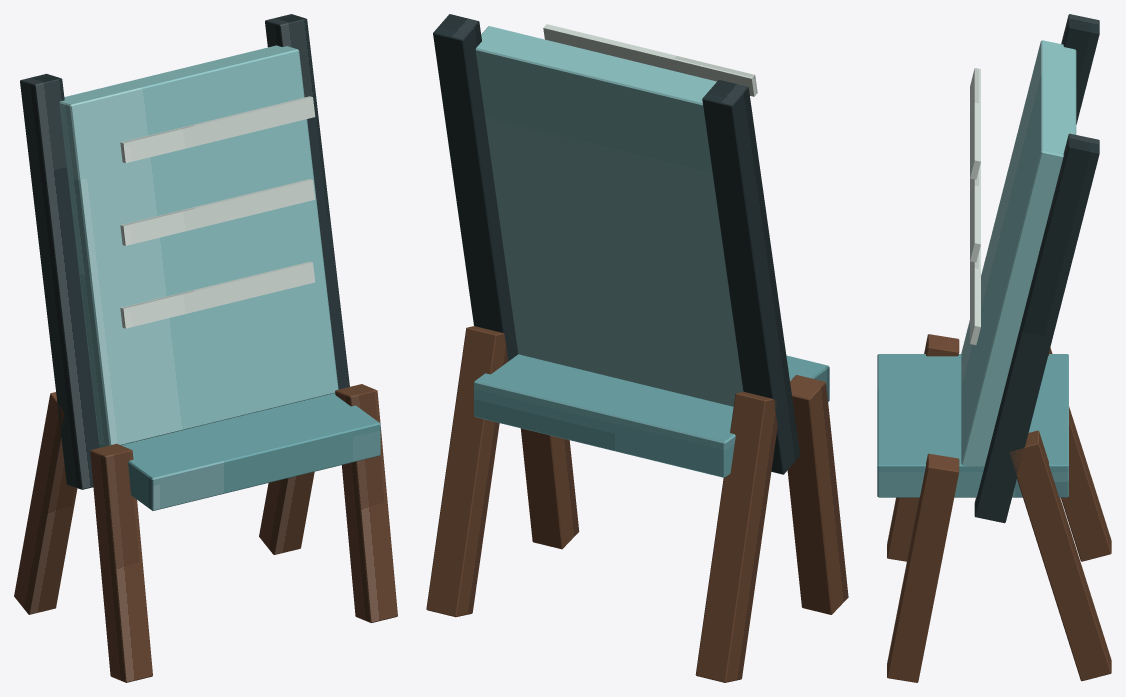
Rendered from beach_chair.glb.
The picture shows the model from 3 angles, left to right: view 1: azimuth 30°, elevation 25°; view 2: azimuth 150°, elevation 25°; view 3: azimuth 270°, elevation 25°; orthographic projection. The views are drawn at different scales.
Parts seen in each view (by area): view 1: ChairBackCanvas, ChairSeatCanvas, BackPostL, FrontLegL, FrontLegR, BackLegL, BackPostR, CanvasFrost_4, CanvasFrost_3, CanvasFrost_2, BackLegR; view 2: ChairBackCanvas, ChairSeatCanvas, BackPostL, BackPostR, BackLegL, BackLegR, FrontLegL, FrontLegR, CanvasFrost_4; view 3: ChairBackCanvas, ChairSeatCanvas, BackPostR, BackLegR, FrontLegR, BackLegL, FrontLegL, BackPostL, CanvasFrost_4, CanvasFrost_3, CanvasFrost_2.
Boxes of the visible parts, box(x1,y1,x2,y2) form: ChairBackCanvas: box(59, 45, 338, 446); ChairSeatCanvas: box(99, 393, 380, 510); BackPostL: box(20, 73, 99, 489); FrontLegL: box(90, 443, 152, 682); FrontLegR: box(335, 384, 397, 622); BackLegL: box(14, 392, 77, 614); BackPostR: box(265, 14, 349, 389); CanvasFrost_4: box(120, 96, 315, 163); CanvasFrost_3: box(120, 179, 315, 245); CanvasFrost_2: box(120, 261, 315, 328); BackLegR: box(259, 471, 314, 554); ChairBackCanvas: box(475, 26, 743, 406); ChairSeatCanvas: box(474, 354, 829, 477); BackPostL: box(702, 79, 800, 474); BackPostR: box(433, 14, 518, 361); BackLegL: box(695, 391, 777, 682); BackLegR: box(426, 326, 511, 617); FrontLegL: box(787, 375, 848, 614); FrontLegR: box(520, 428, 579, 549); CanvasFrost_4: box(543, 24, 757, 96); ChairBackCanvas: box(961, 40, 1076, 468); ChairSeatCanvas: box(877, 354, 1068, 497); BackPostR: box(974, 133, 1099, 523); BackLegR: box(1009, 430, 1111, 681); FrontLegR: box(887, 453, 959, 682); BackLegL: box(1048, 347, 1111, 561); FrontLegL: box(887, 334, 959, 561); BackPostL: box(1061, 14, 1099, 124); CanvasFrost_4: box(970, 68, 980, 179); CanvasFrost_3: box(970, 162, 980, 262); CanvasFrost_2: box(970, 245, 980, 344).
Size of the model in its own units: 0.69 by 1.3 by 0.513.
Materials: 1 (1 with a texture image).
